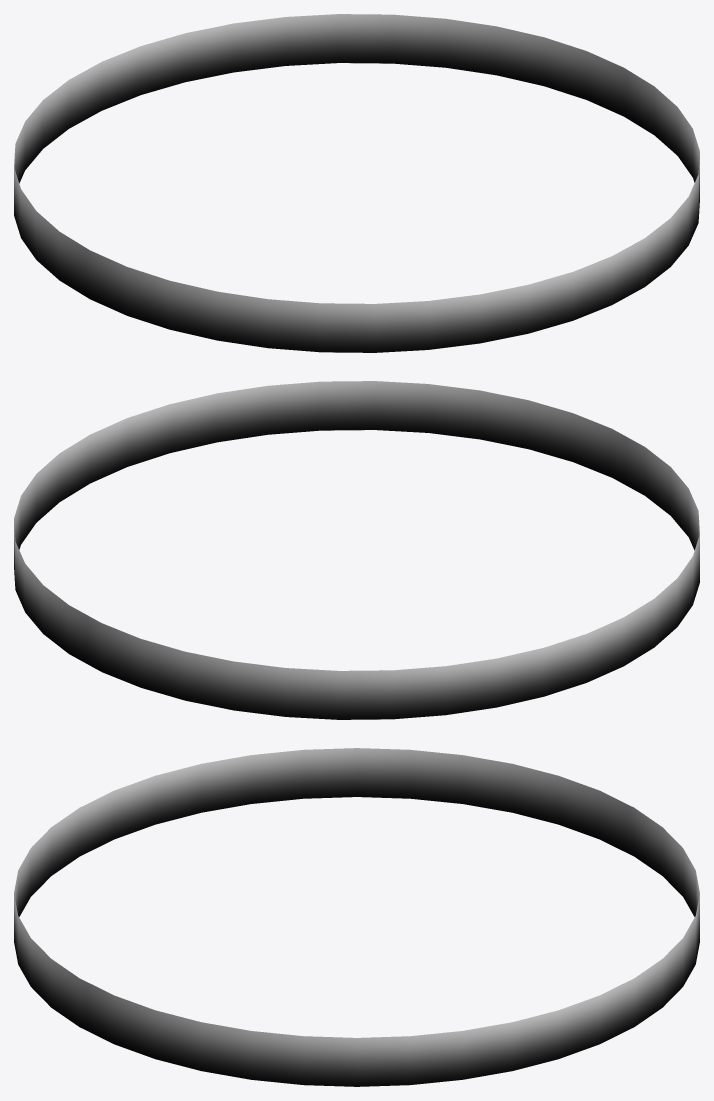
File: guanghuan.FBX
3 renders of one model, top to bottom at view 1: azimuth 30°, elevation 25°; view 2: azimuth 150°, elevation 25°; view 3: azimuth 270°, elevation 25°, orthographic.
Visible parts, largest first — view 1: 图形001; view 2: 图形001; view 3: 图形001.
Boxes of the visible parts, x1,y1,x2,y2 form: 图形001: (14, 14, 699, 352); 图形001: (14, 381, 699, 719); 图形001: (14, 748, 699, 1086).
Bounding box in the file's own units: 634986 × 50000 × 634986.
1 material, 1 textured.
